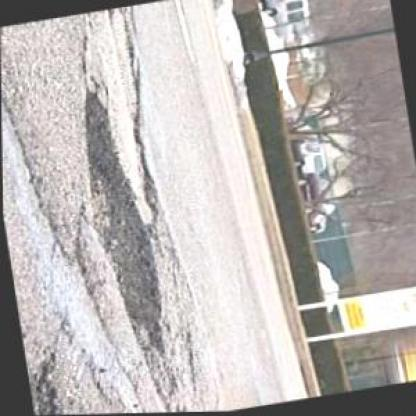pothole: (72, 85, 165, 352)
